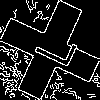L: (25, 25, 78, 70)
